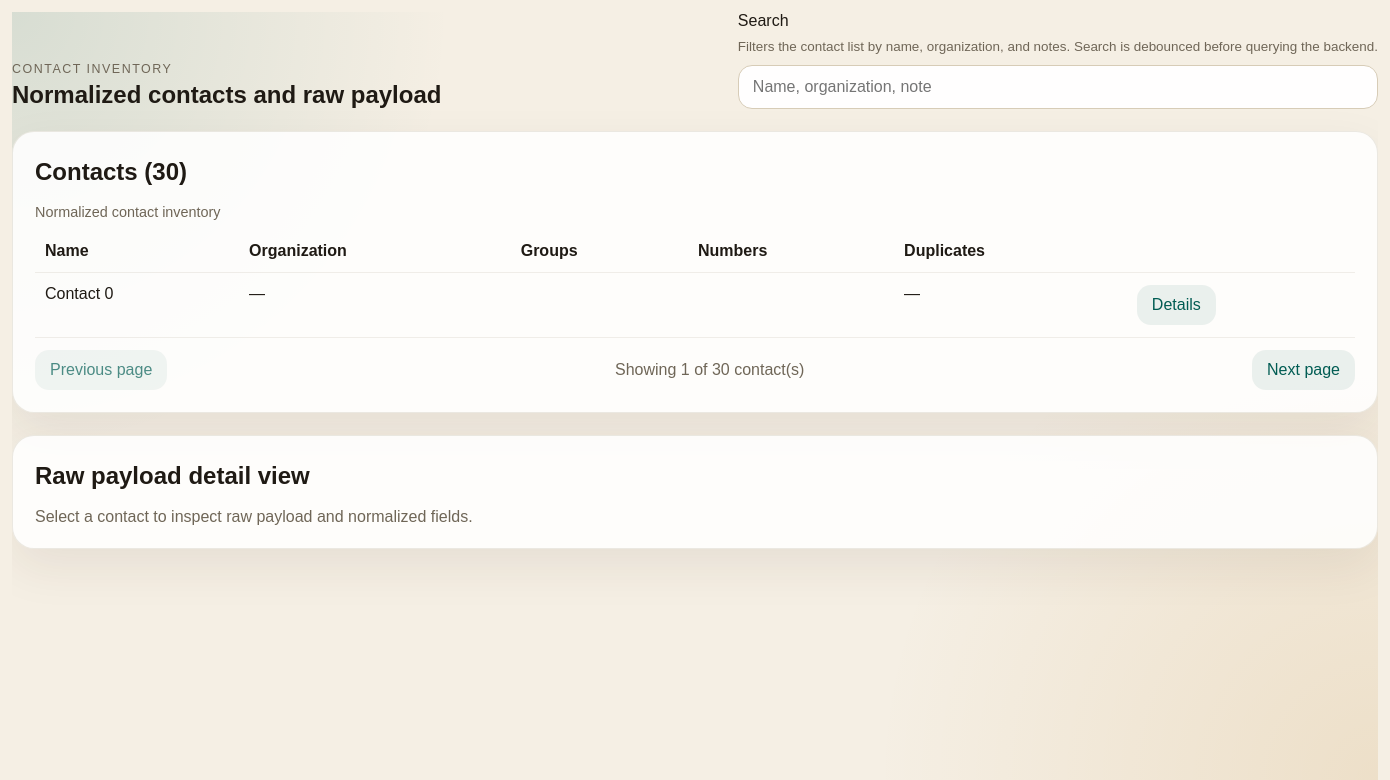
Test: contacts page requests paginated contacts and advances pages
Expected: the text "Showing 1 of 30 contact(s)" is shown, left=615, top=361, right=804, bottom=379
Click the button "Next page": (1304, 370) left=1252, top=350, right=1355, bottom=390
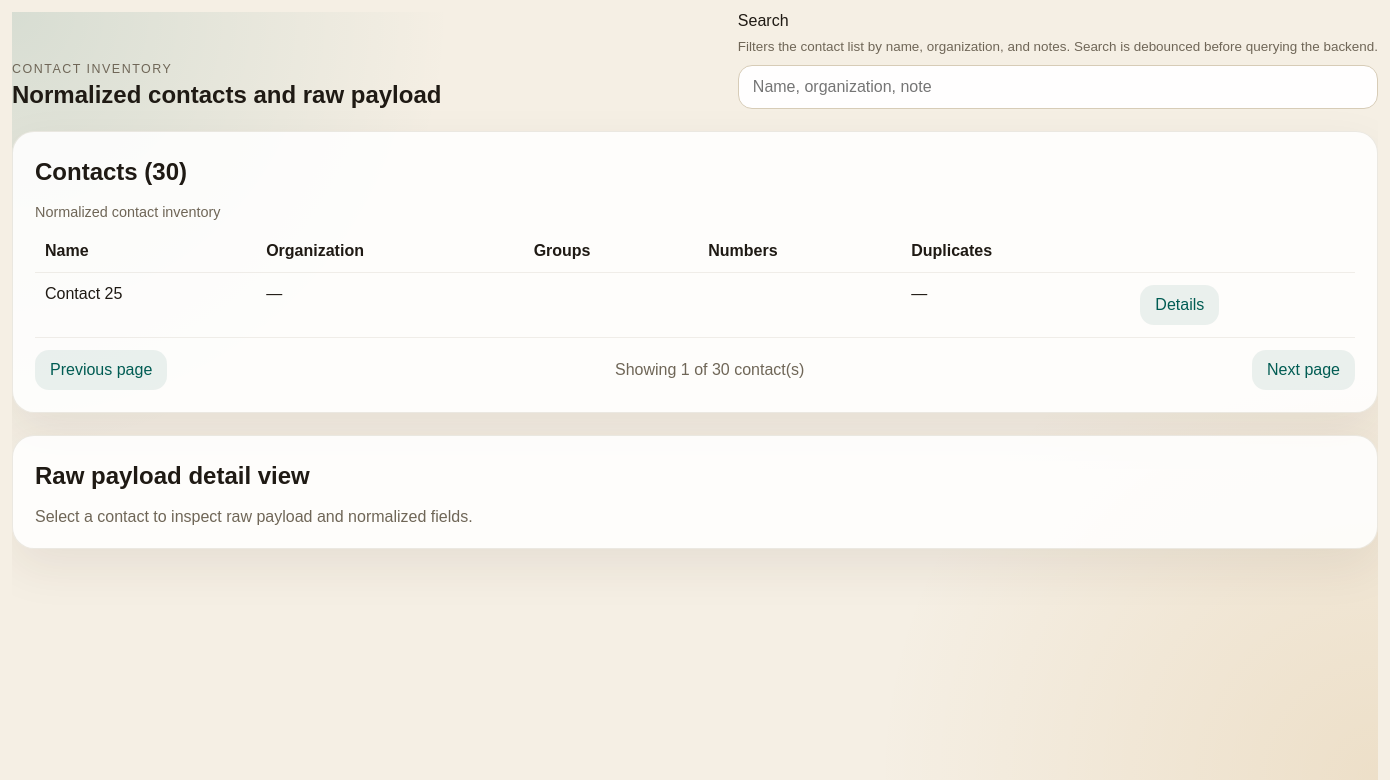
Expected: the text "Contact 25" is shown, left=35, top=272, right=256, bottom=337
